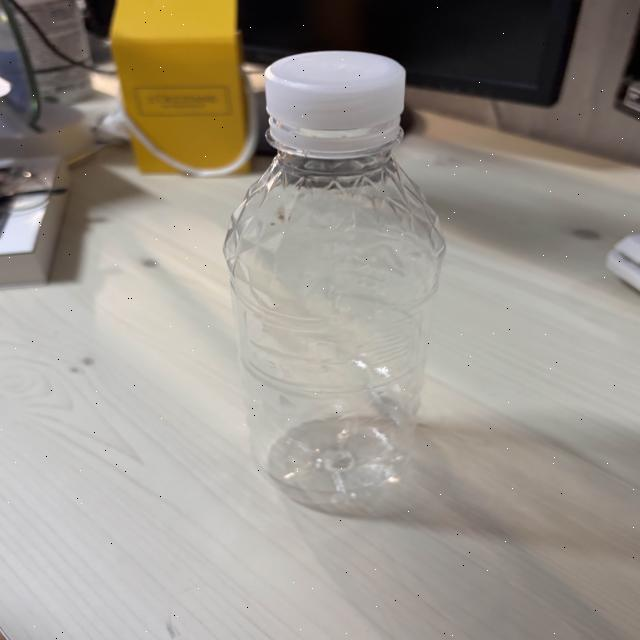Plastic: (186, 34, 474, 521)
